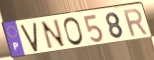5: (82, 13, 104, 44)
8: (105, 12, 125, 40)
N: (39, 19, 67, 51)
O: (63, 16, 85, 47)
R: (121, 7, 150, 39)
V: (19, 21, 39, 53)
